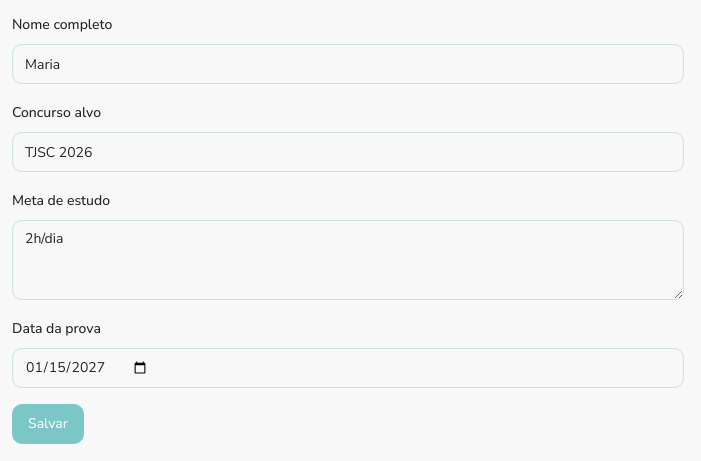
it: ProfileForm › submit happy path chama updateProfile e mostra toast
Later steps or results of the test are not shown.
Replace the text in the field labelled "Nome completo" with "Maria Silva". click: (348, 64)
box: [12,44,684,84]
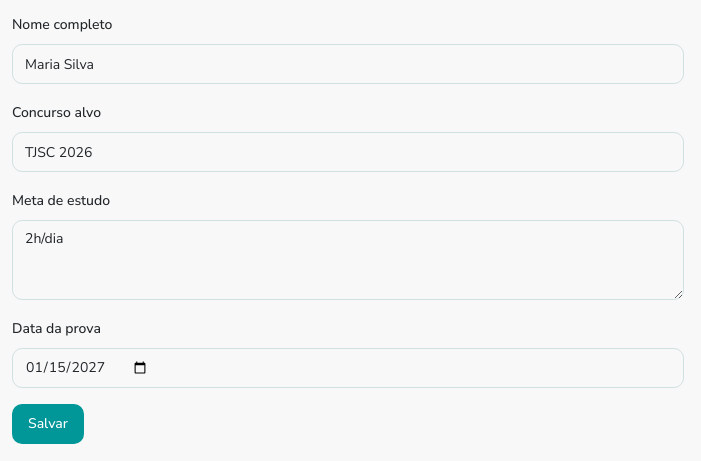
Check: the button "Salvar" is enabled, box [12,404,84,444]
